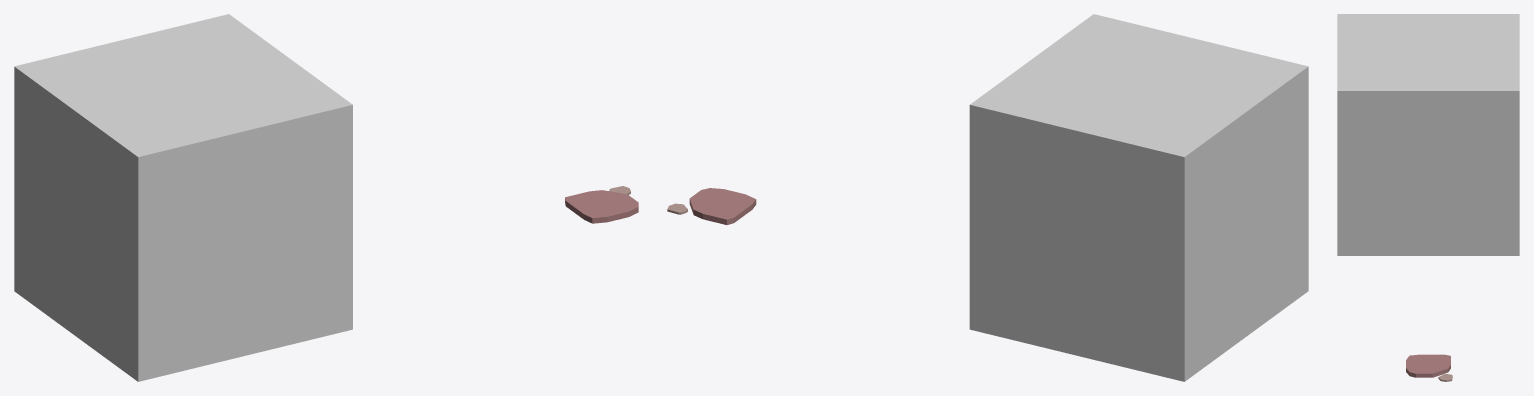
The model's file is stone-floor.glb.
3 views of the same model, side by side, from view 1: azimuth 30°, elevation 25°; view 2: azimuth 150°, elevation 25°; view 3: azimuth 270°, elevation 25° (orthographic). The views are drawn at different scales.
Visible parts, largest first — view 1: Cube-noimp, Plane; view 2: Cube-noimp, Plane; view 3: Cube-noimp, Plane.
Part boxes in pixels (x1,y1,x2,y2): Cube-noimp: (14, 14, 352, 381); Plane: (565, 190, 638, 223); Cube-noimp: (969, 14, 1308, 381); Plane: (689, 188, 756, 224); Cube-noimp: (1337, 14, 1519, 255); Plane: (1406, 354, 1450, 377).
Size of the model in its own units: 5.27 by 2 by 2.
